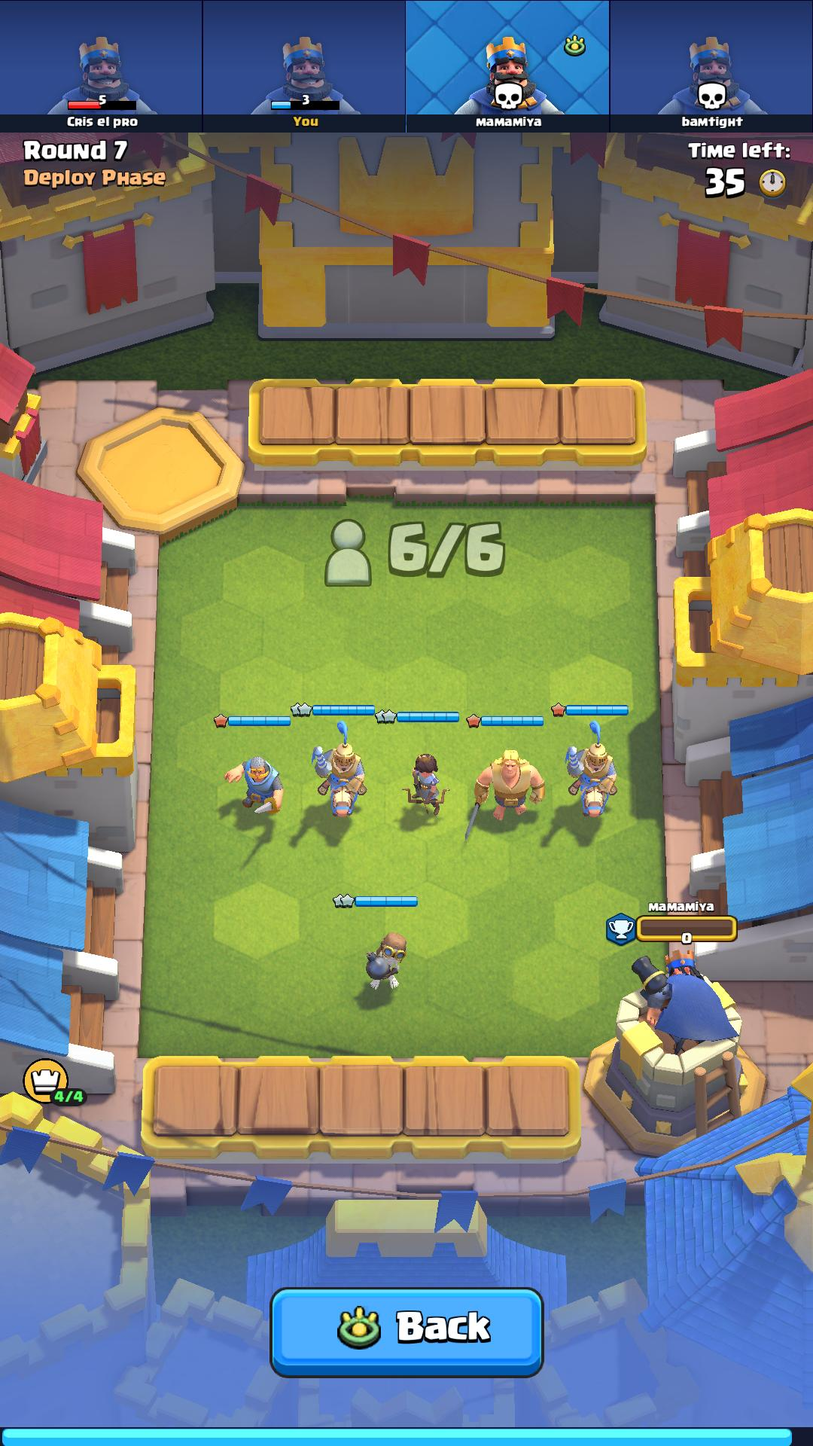bomber: (359, 927, 416, 1000)
golden: (465, 744, 554, 842)
knight: (220, 745, 288, 821)
prince: (559, 721, 626, 825), (306, 721, 365, 819)
princess: (393, 745, 454, 828)
